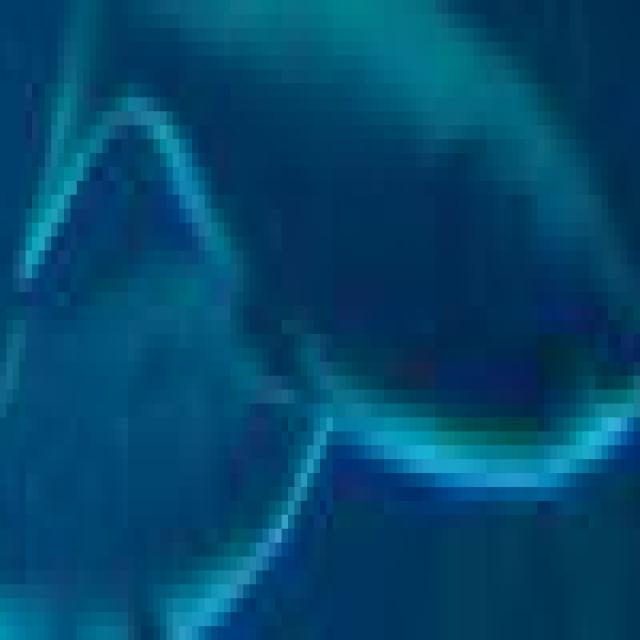fish: (6, 0, 640, 626)
